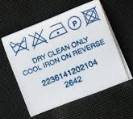ER_dry_clean_chemical: (67, 14, 83, 32)
ER_iron_low_temp: (49, 21, 68, 41)
ER_no_bleach: (28, 27, 49, 49)
ER_no_tumble_dry: (81, 5, 102, 25)
ER_no_wash: (7, 37, 31, 56)
